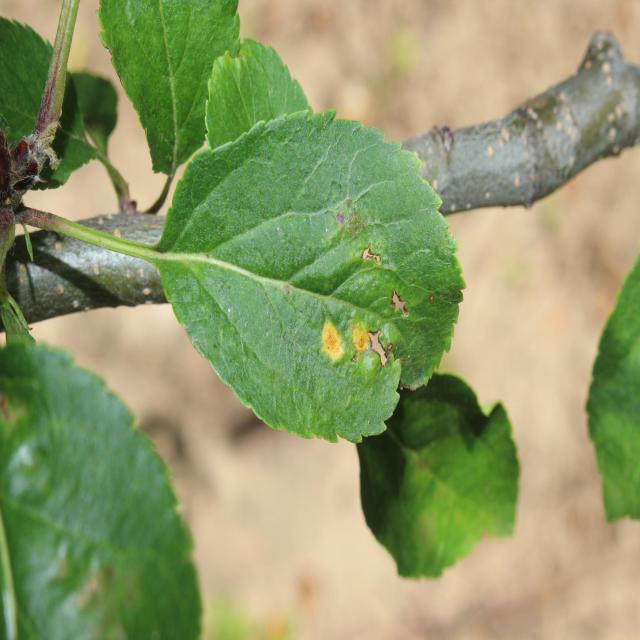Rust: (314, 316, 349, 377), (351, 314, 375, 378)
